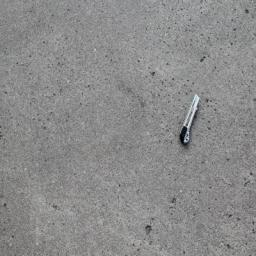FOD: (176, 90, 205, 148)
